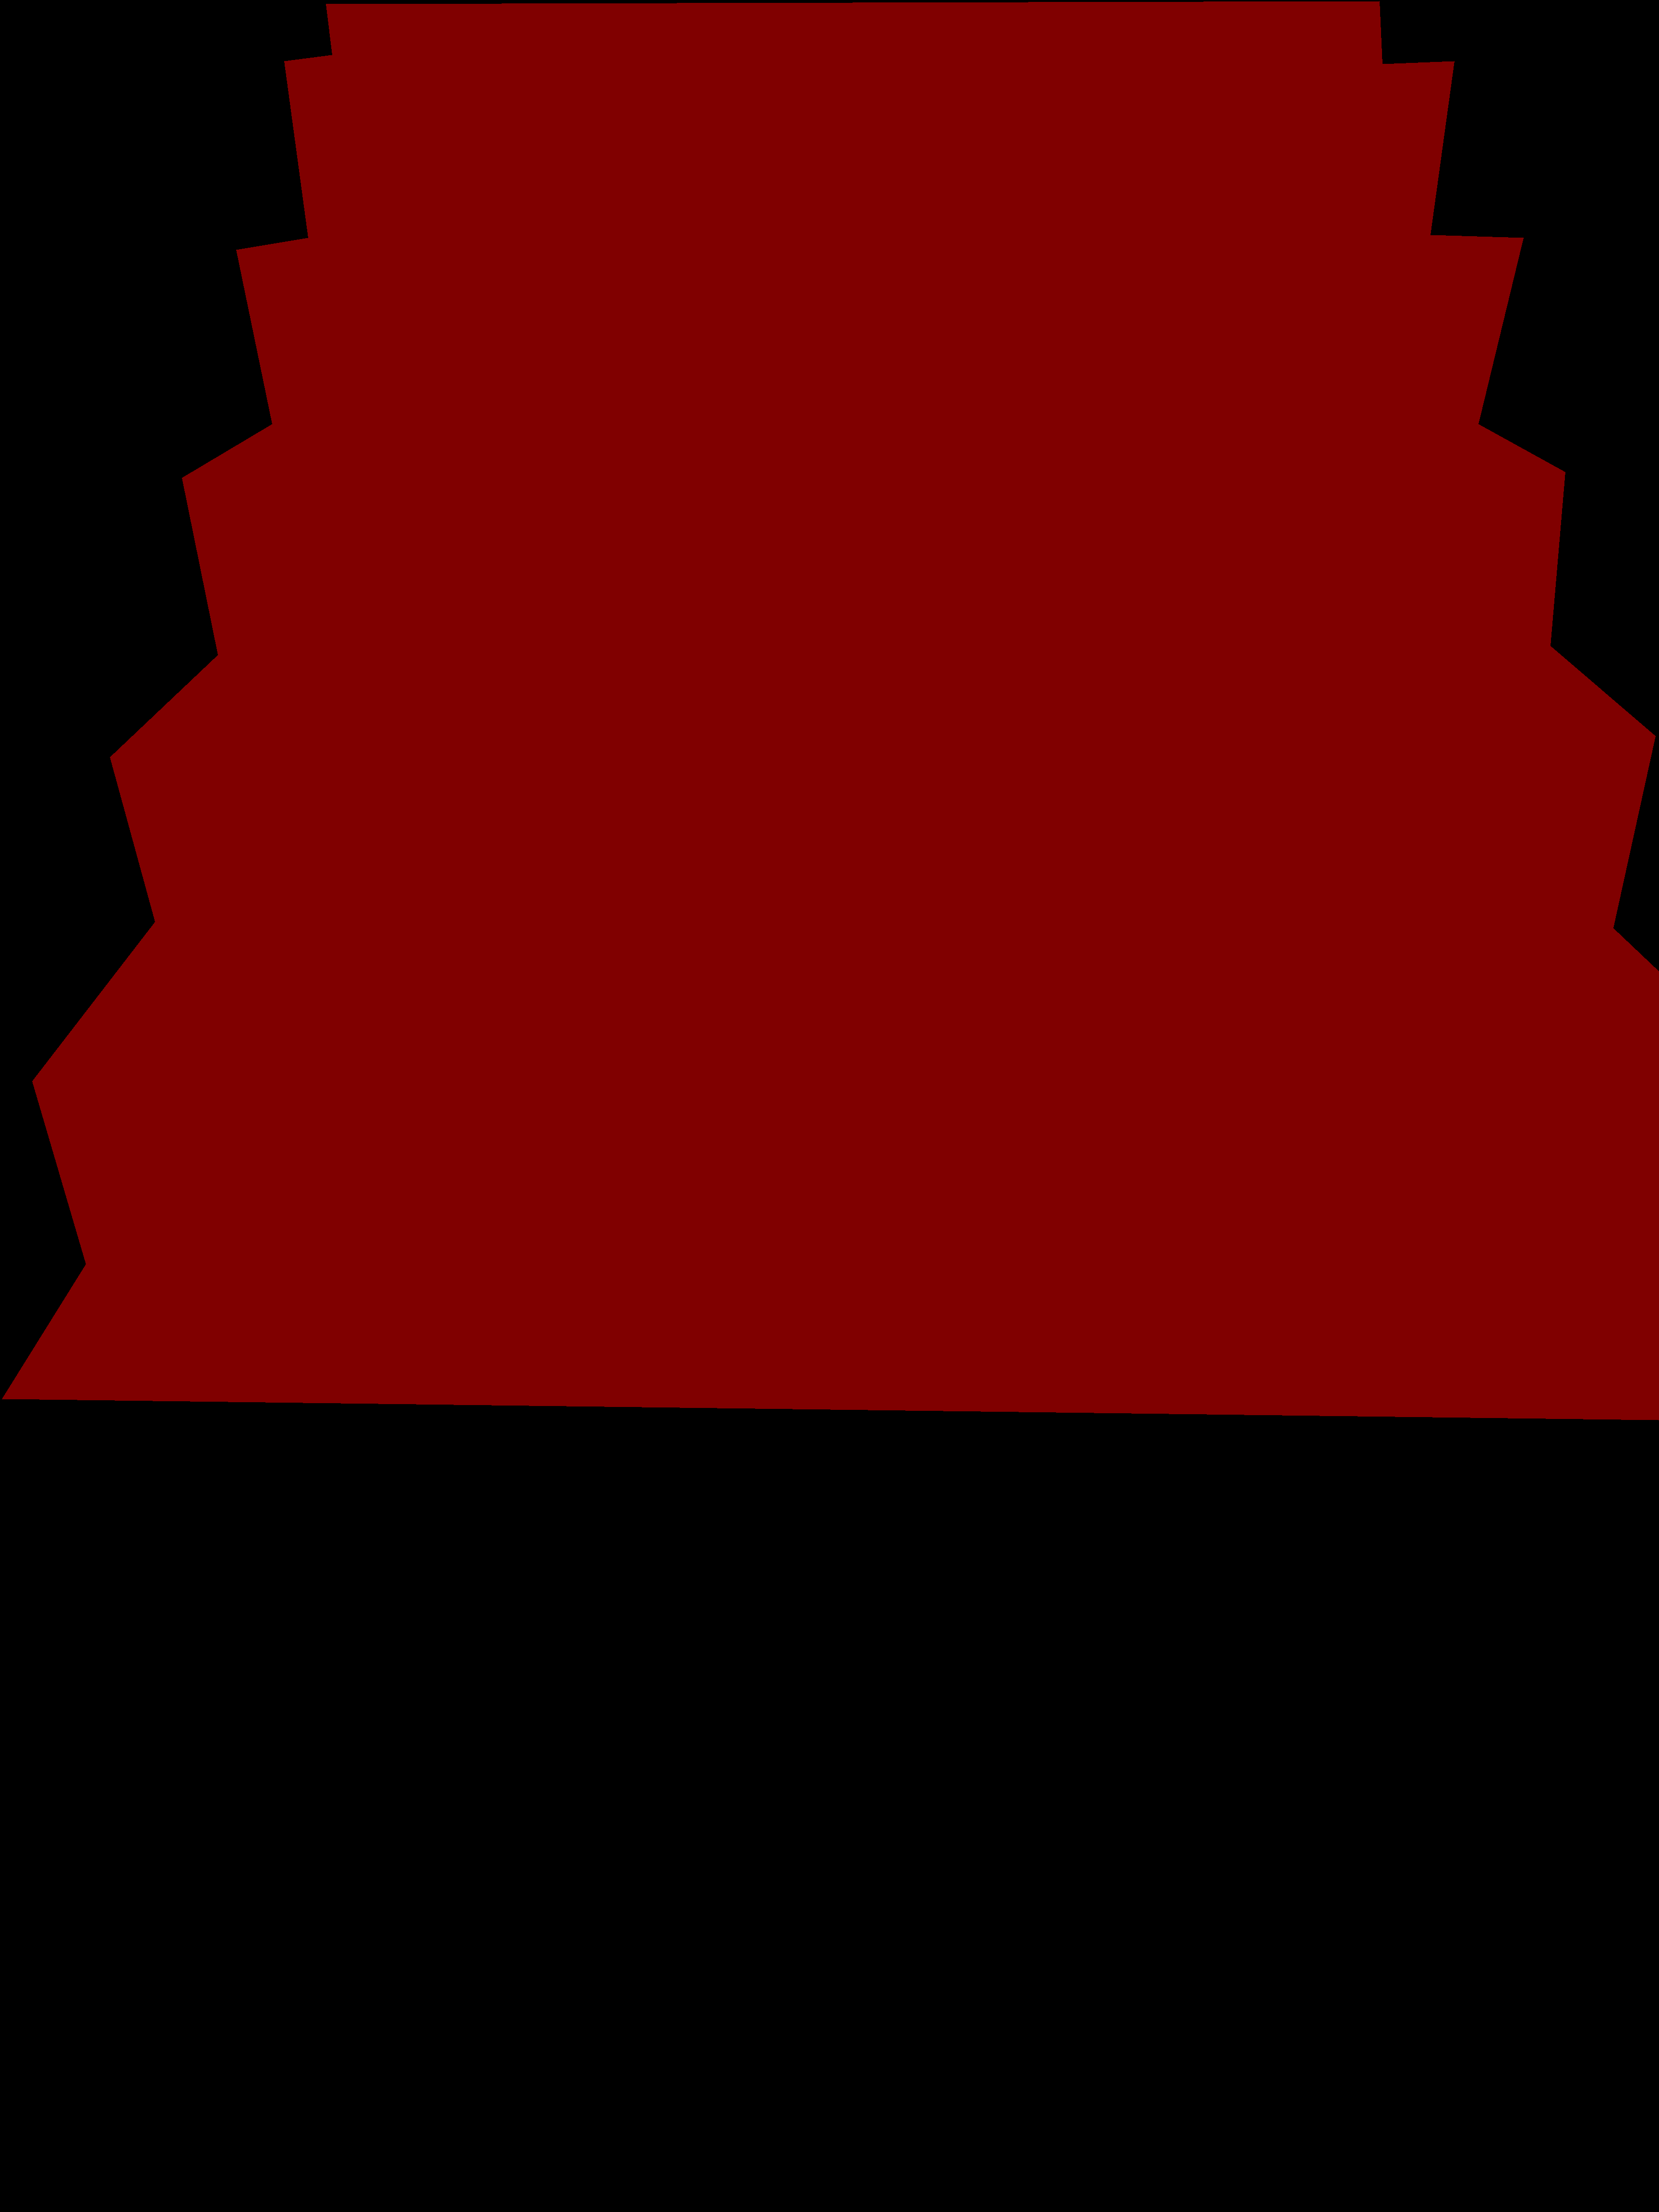stair: (2, 2, 1659, 1420)
